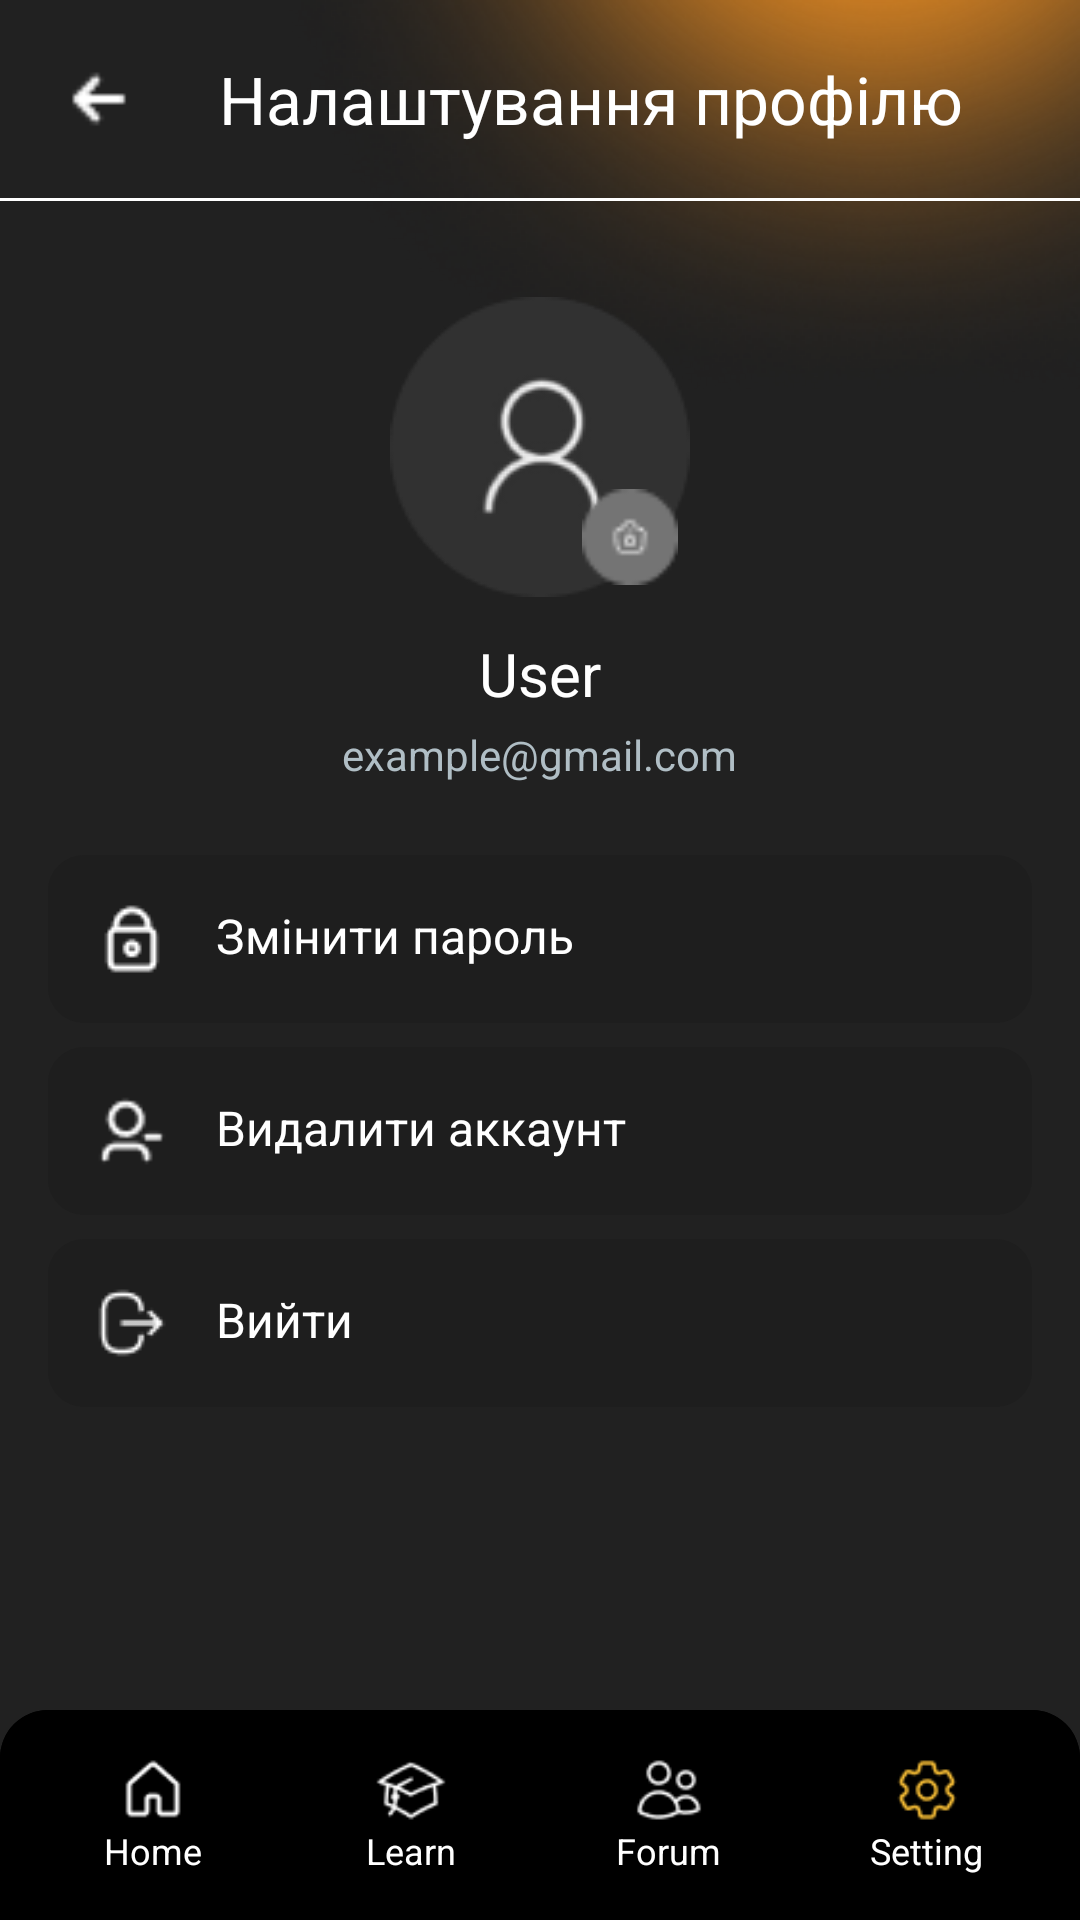

Where icons sit on this 1080 x 1920 app screen, as box(x1, y1, x2, y2):
Back: box(72, 73, 126, 125)
Change Avatar: box(582, 489, 678, 585)
delete: box(101, 1099, 163, 1162)
passsword: box(105, 905, 159, 973)
